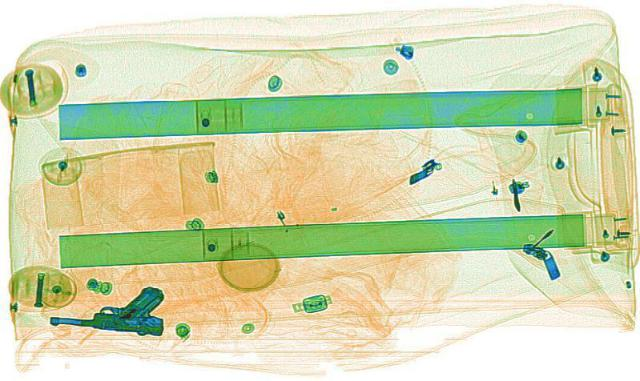Gun: (46, 276, 176, 334)
